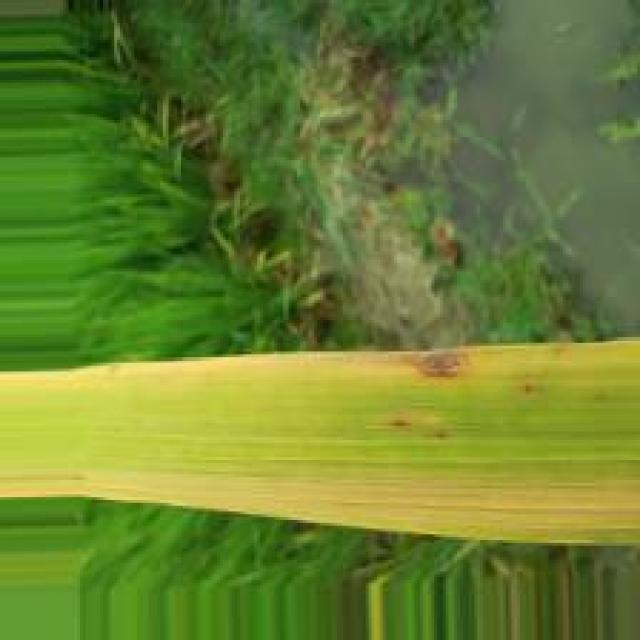Narrow_Brown_Leaf_Spot: (397, 347, 486, 388), (382, 416, 450, 440)
